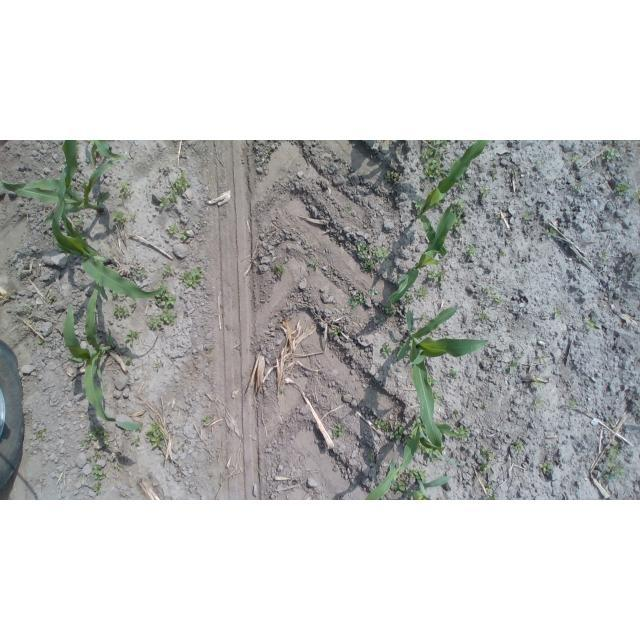Maize: (398, 308, 490, 455), (51, 191, 165, 297), (62, 282, 143, 431), (0, 140, 130, 228), (415, 141, 491, 260), (364, 416, 464, 500), (388, 205, 459, 305), (390, 460, 451, 500), (89, 140, 130, 166)
Weeds: (417, 140, 447, 180), (158, 173, 192, 208), (356, 240, 389, 273), (601, 446, 624, 481), (144, 419, 168, 449), (374, 420, 408, 441), (81, 427, 112, 448), (418, 444, 446, 464), (179, 267, 202, 288), (155, 288, 177, 308), (480, 285, 502, 304), (346, 293, 365, 312), (111, 210, 137, 223), (600, 146, 620, 162), (428, 268, 446, 285), (453, 424, 472, 440), (160, 308, 177, 325), (92, 464, 109, 481), (452, 173, 468, 191), (484, 484, 500, 500), (613, 182, 631, 196), (408, 468, 426, 482), (124, 330, 140, 345), (451, 200, 466, 216), (393, 476, 407, 493), (118, 180, 128, 202), (112, 304, 128, 317), (149, 315, 163, 329), (451, 218, 465, 232), (134, 268, 149, 281), (332, 425, 345, 440), (480, 446, 493, 460), (416, 286, 429, 299), (538, 462, 552, 474), (92, 481, 103, 496), (402, 291, 415, 303), (381, 342, 392, 356), (276, 262, 287, 276), (76, 180, 88, 192), (512, 441, 524, 453), (466, 246, 477, 259), (531, 378, 544, 389), (585, 318, 596, 331), (72, 216, 84, 227), (385, 304, 397, 315), (476, 312, 488, 323), (384, 171, 396, 182), (572, 181, 584, 192), (508, 361, 520, 372), (88, 451, 101, 461), (427, 375, 437, 388), (36, 428, 47, 439), (431, 390, 441, 402), (491, 164, 498, 180), (546, 225, 557, 235), (130, 435, 141, 445), (308, 260, 320, 269), (180, 231, 190, 241), (331, 326, 341, 336), (571, 155, 581, 165), (480, 188, 491, 197), (201, 416, 212, 425), (567, 399, 578, 408), (169, 225, 179, 234), (163, 268, 174, 276), (129, 297, 137, 308), (480, 463, 488, 474), (125, 356, 134, 365), (48, 296, 57, 305), (375, 315, 384, 324), (366, 451, 374, 461), (600, 252, 608, 261), (634, 188, 640, 200), (535, 399, 544, 407), (116, 462, 125, 470), (28, 303, 35, 313), (368, 289, 378, 296), (112, 291, 120, 299), (157, 280, 164, 289), (554, 309, 561, 318), (450, 368, 457, 376), (522, 214, 530, 221), (512, 168, 519, 176), (155, 360, 161, 368), (36, 339, 44, 345), (540, 354, 546, 362), (344, 205, 352, 211), (448, 159, 456, 165), (452, 412, 460, 418), (397, 343, 404, 349), (421, 314, 427, 321), (261, 157, 267, 163), (81, 235, 87, 241), (218, 479, 224, 485), (405, 437, 411, 443), (614, 140, 621, 145), (164, 165, 169, 171), (66, 252, 71, 258), (484, 403, 489, 409), (499, 252, 506, 256), (436, 324, 441, 328), (540, 162, 545, 165)
